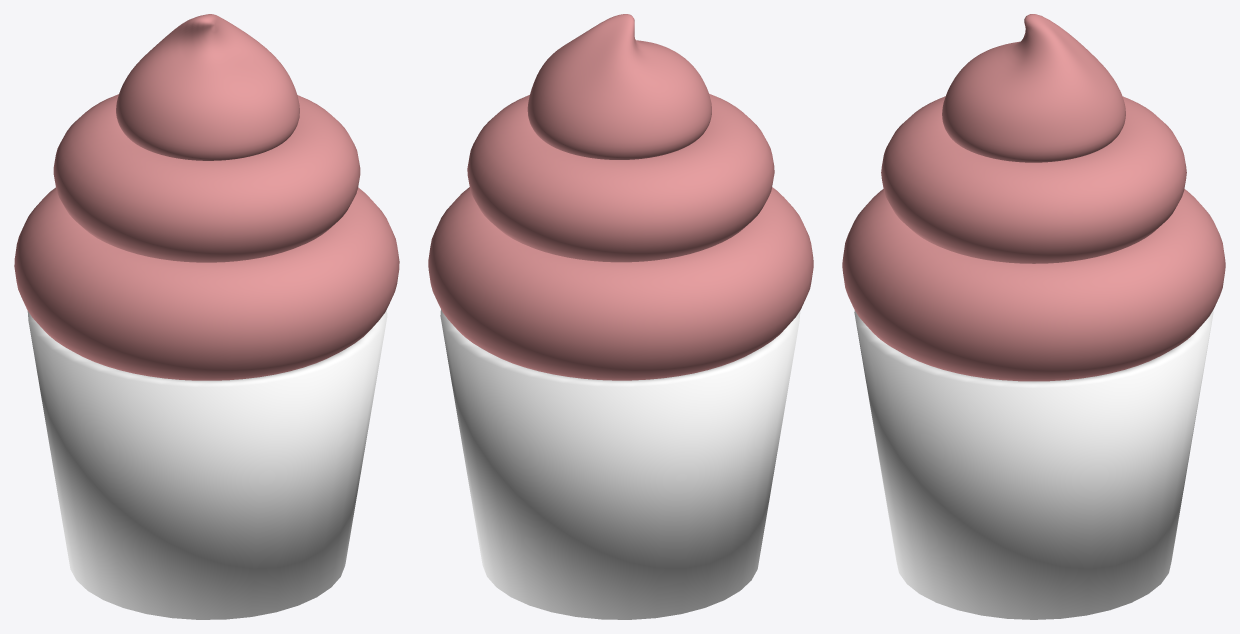
File: strawberry_excellent.glb
3 views of the same model, side by side, from view 1: azimuth 30°, elevation 25°; view 2: azimuth 150°, elevation 25°; view 3: azimuth 270°, elevation 25° (orthographic).
Parts seen in each view (by area): view 1: 圓柱體, 環體, 環體.001, 球體; view 2: 圓柱體, 環體, 環體.001, 球體; view 3: 圓柱體, 環體, 環體.001, 球體.
Part boxes in pixels (x1,y1,x2,y2): 圓柱體: [27, 309, 387, 619]; 環體: [14, 187, 399, 380]; 環體.001: [53, 94, 360, 262]; 球體: [116, 14, 299, 160]; 圓柱體: [440, 309, 800, 619]; 環體: [428, 187, 813, 380]; 環體.001: [467, 93, 774, 262]; 球體: [527, 14, 711, 159]; 圓柱體: [854, 310, 1213, 619]; 環體: [842, 189, 1225, 381]; 環體.001: [881, 96, 1186, 263]; 球體: [942, 14, 1125, 162].
Bounding box in the file's own units: 2.94 × 4.59 × 2.94.
Materials: 2 (1 with a texture image).
